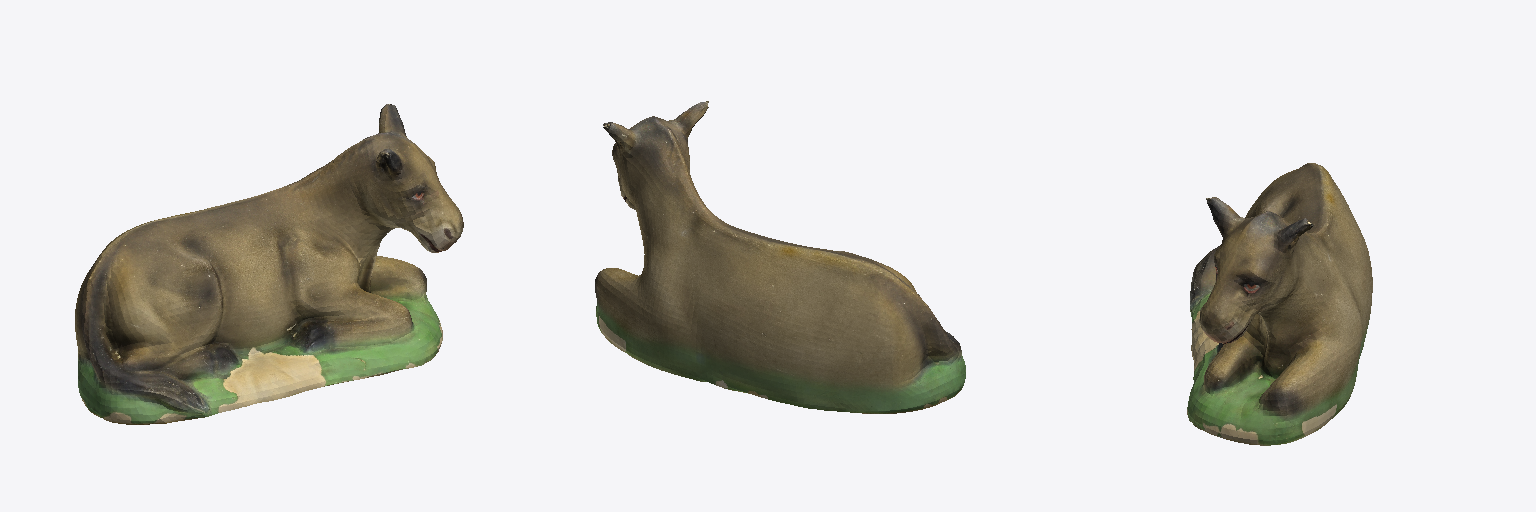
3 views of the same model, side by side, from view 1: azimuth 30°, elevation 25°; view 2: azimuth 150°, elevation 25°; view 3: azimuth 270°, elevation 25° (orthographic).
Visible parts, largest first — view 1: Burro_LP2; view 2: Burro_LP2; view 3: Burro_LP2.
Boxes of the visible parts, box(x1,y1,x2,y2) form: Burro_LP2: box(75, 104, 463, 424); Burro_LP2: box(595, 101, 965, 413); Burro_LP2: box(1187, 163, 1372, 445).
Size of the model in its own units: 0.1873 by 0.1092 by 0.0851.
Materials: 1 (1 with a texture image).